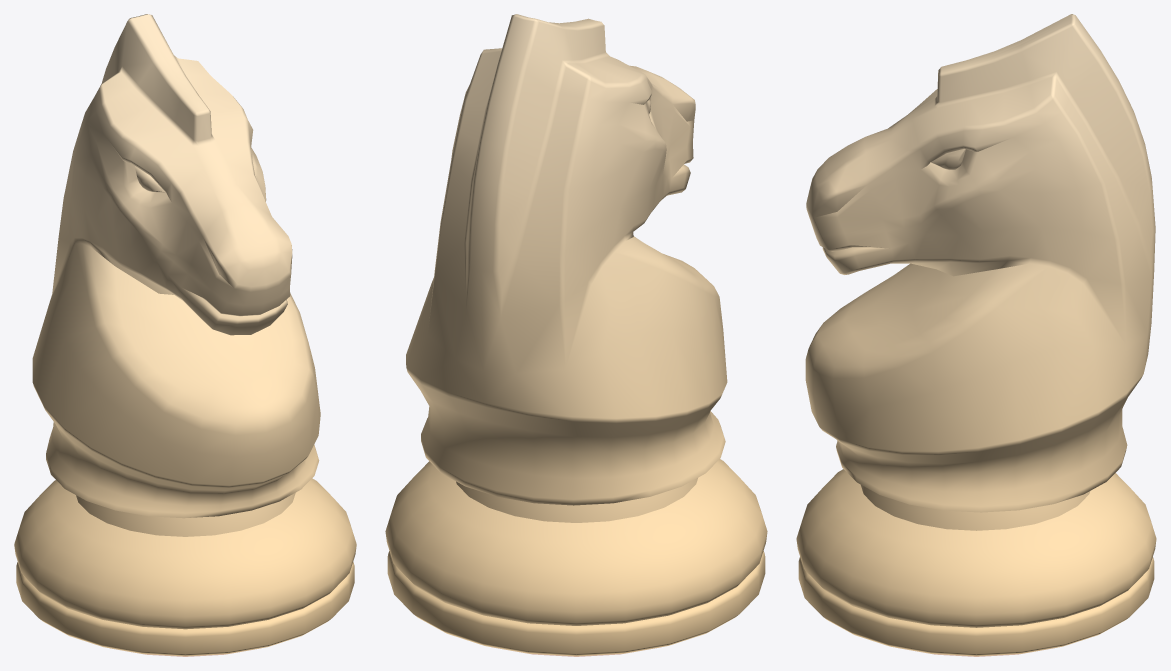
Rendered from Chess_White_Hoss_01.fbx.
The picture shows the model from 3 angles, left to right: view 1: azimuth 30°, elevation 25°; view 2: azimuth 150°, elevation 25°; view 3: azimuth 270°, elevation 25°; orthographic projection. The views are drawn at different scales.
Visible parts, largest first — view 1: Chess_White_Hoss_01; view 2: Chess_White_Hoss_01; view 3: Chess_White_Hoss_01.
Boxes of the visible parts, x1,y1,x2,y2 form: Chess_White_Hoss_01: [14, 14, 356, 656]; Chess_White_Hoss_01: [385, 14, 767, 656]; Chess_White_Hoss_01: [796, 14, 1156, 656].
Size of the model in its own units: 3.68 by 6.44 by 3.68.
